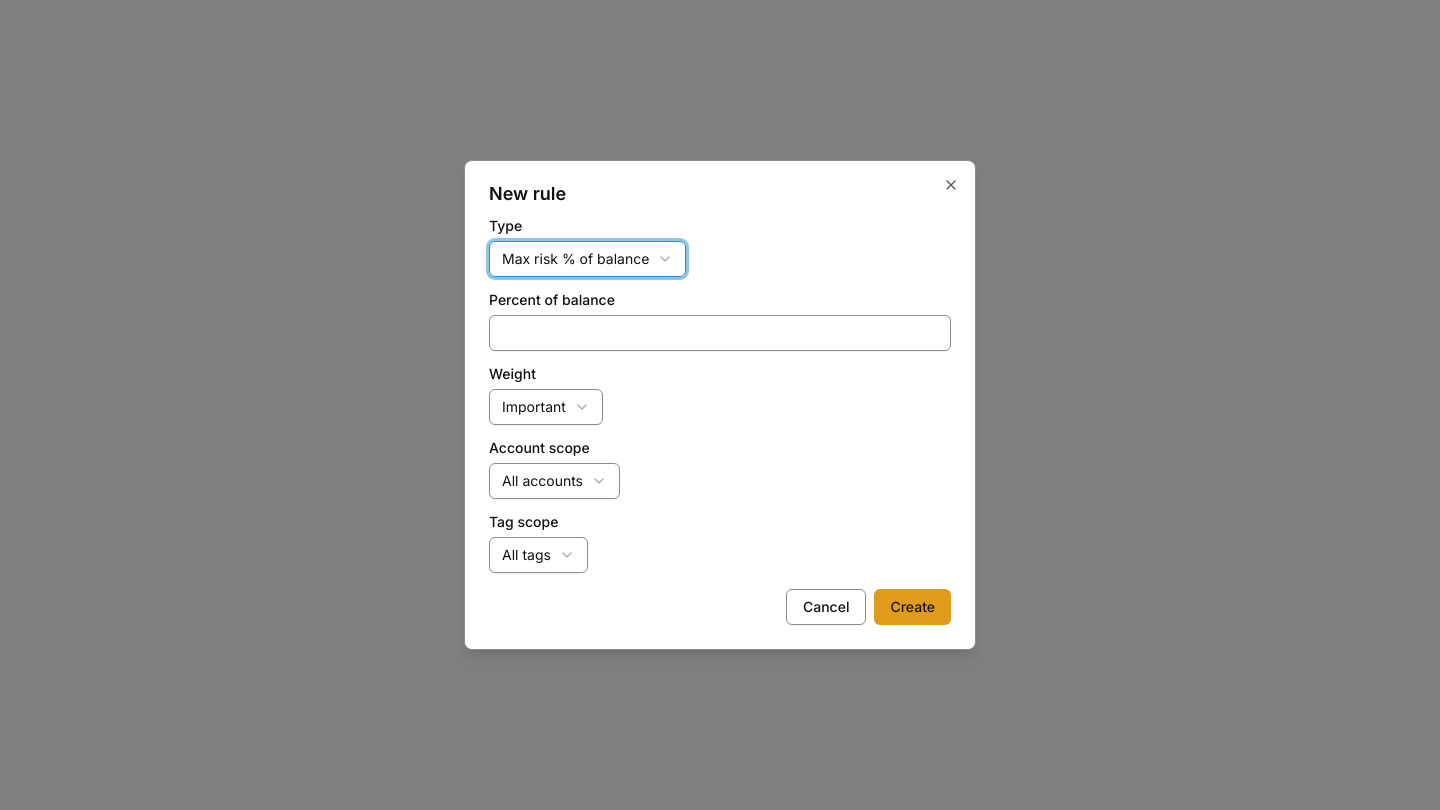
Test: RuleDialog — inline 409 › renders the duplicate refusal inline by code and keeps the dialog open
This screenshot has width=1440, height=810.
Type "2" into the field labelled "Percent of balance".
click(720, 333); type("2")  # box [489,315,951,351]
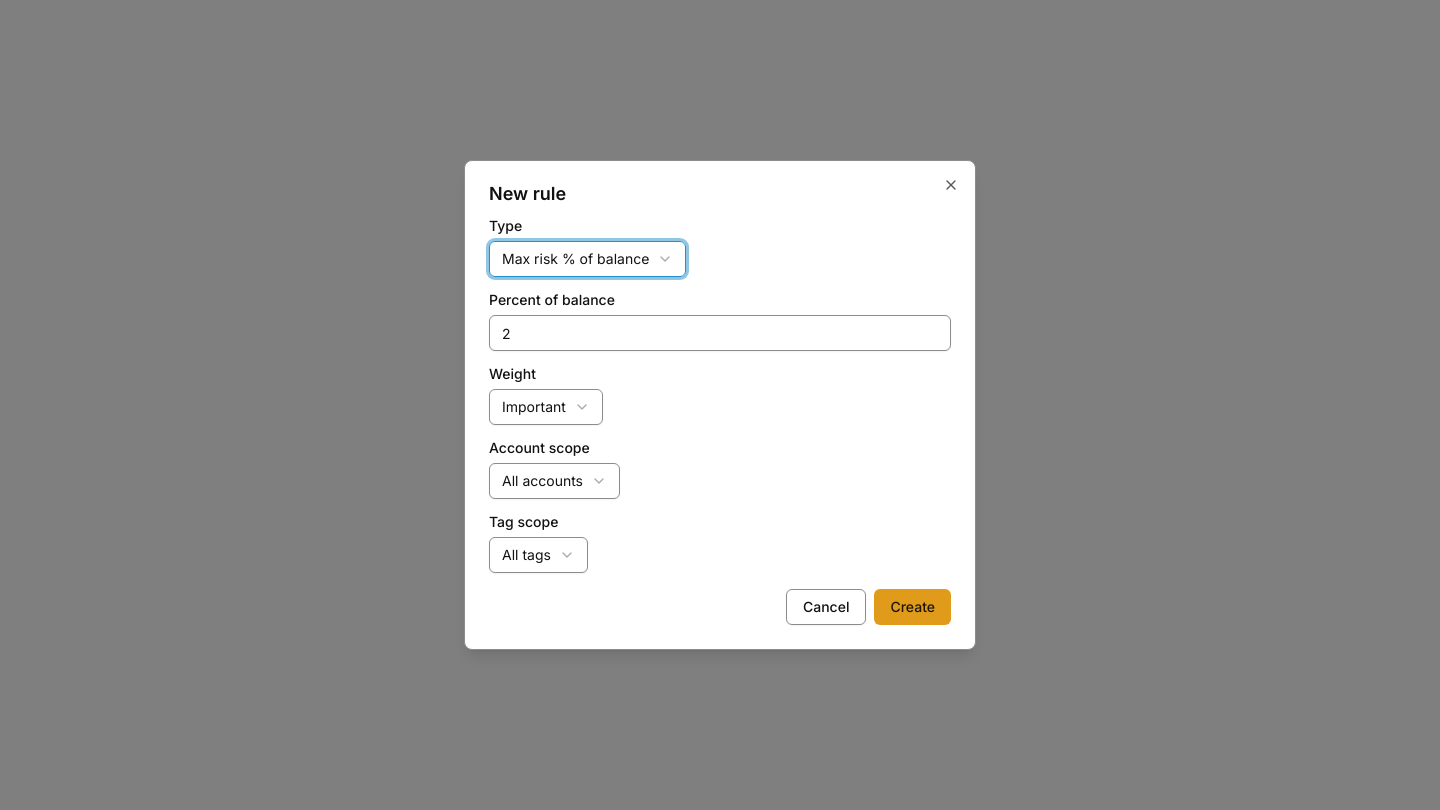
Click the button "Create".
click(913, 607)  # box [874,589,951,625]
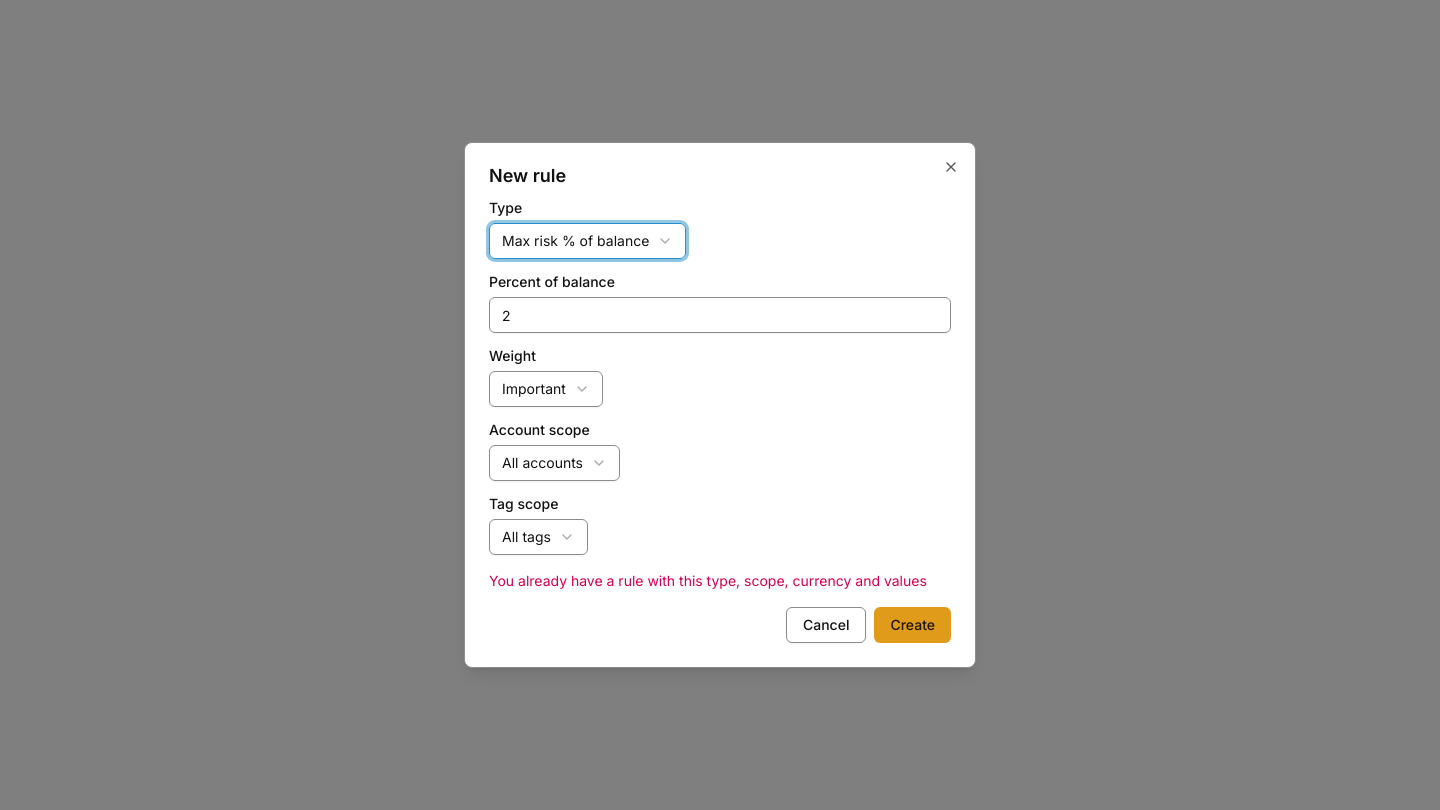
Check: the text with test id "rule-refusal" is shown, box [489,571,951,591]
Check: the text "already have a rule" is shown, box [489,572,927,589]
